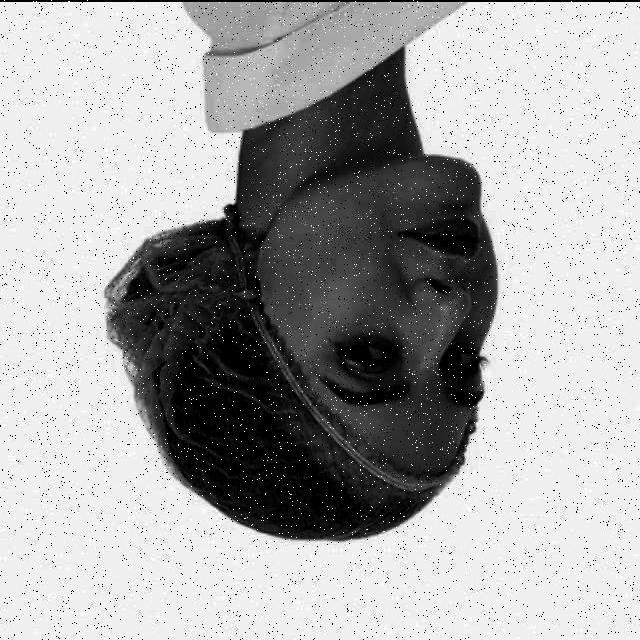gloves: (110, 208, 271, 528)
